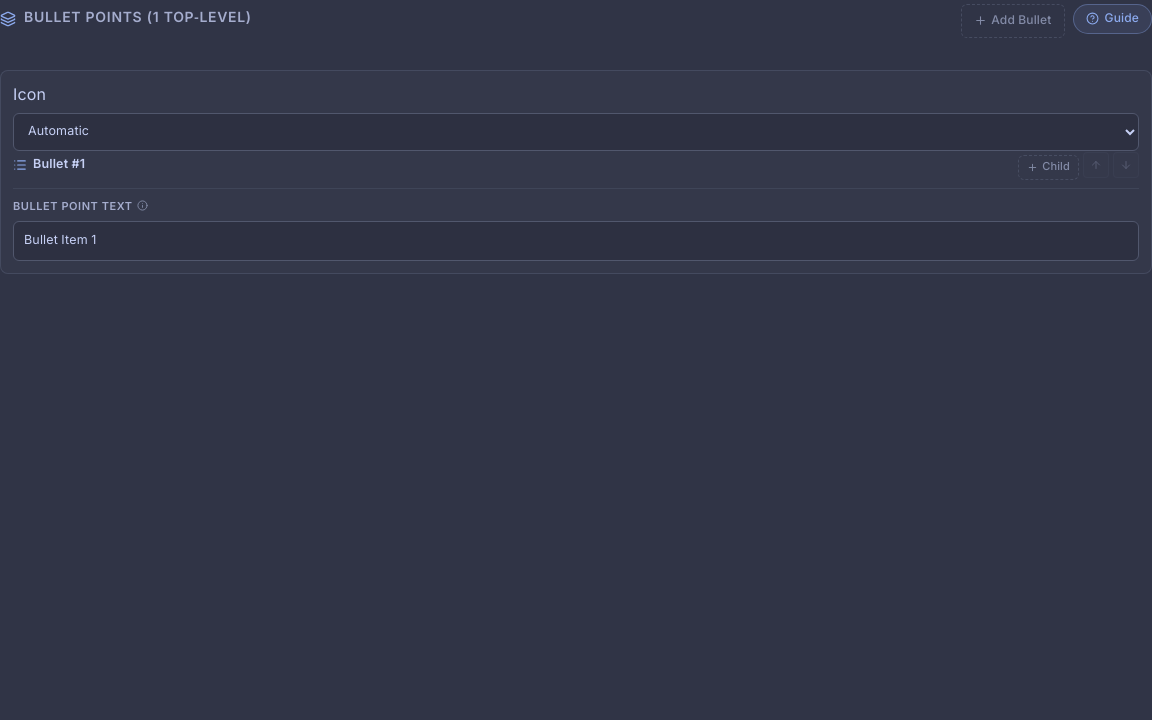
Scenario: VisualFormEditor › renders bullets form editor for bullets type
Expected: the element with test id "bullets-form-editor" is shown, 0,0 -> 1151,274
Expected: the element with test id "bullet-item-card-0" is shown, 0,70 -> 1151,274
# Test guide modal
Click the button with test id "bullets-editor-help-btn". click: (1112, 19)
box: 1072,4 -> 1151,34
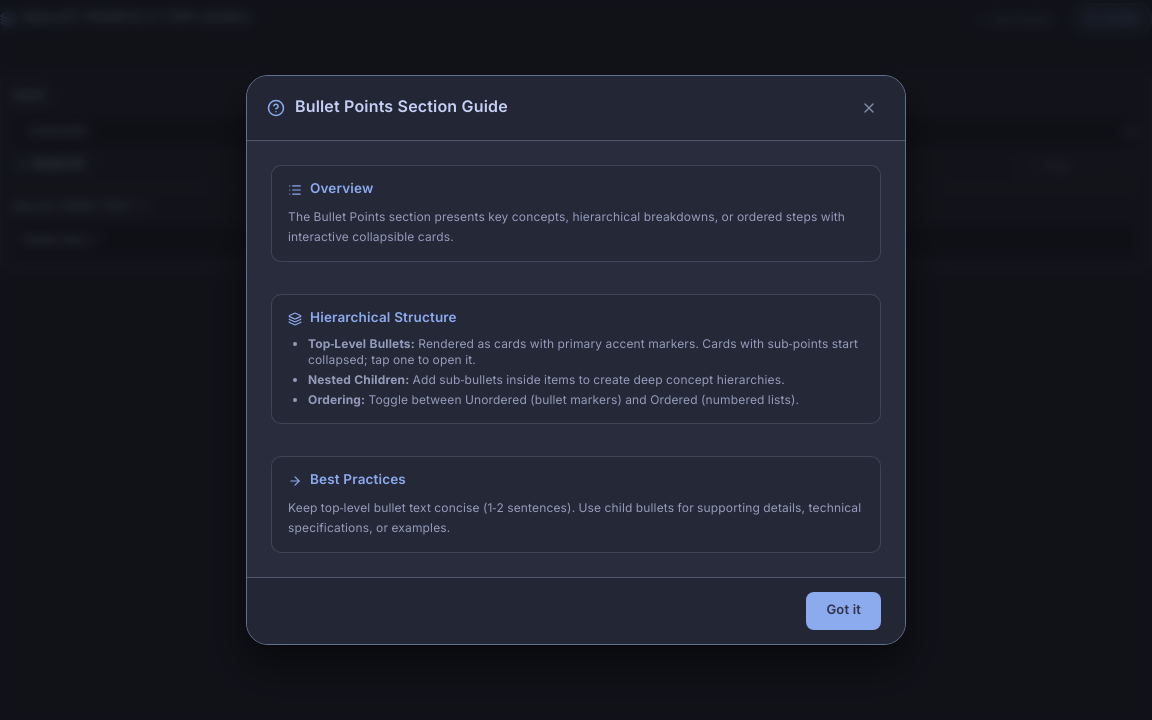
Expected: the element with test id "bullets-help-modal" is shown
